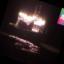fishing boat: (1, 0, 56, 49)
